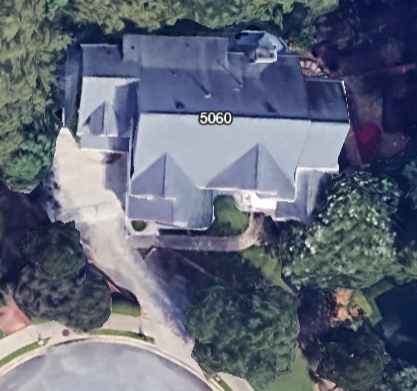driveway: (27, 113, 202, 391)
